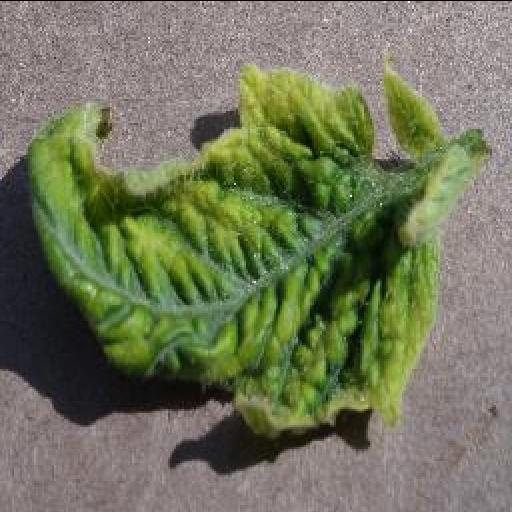disease_tomato: (30, 58, 448, 432)
